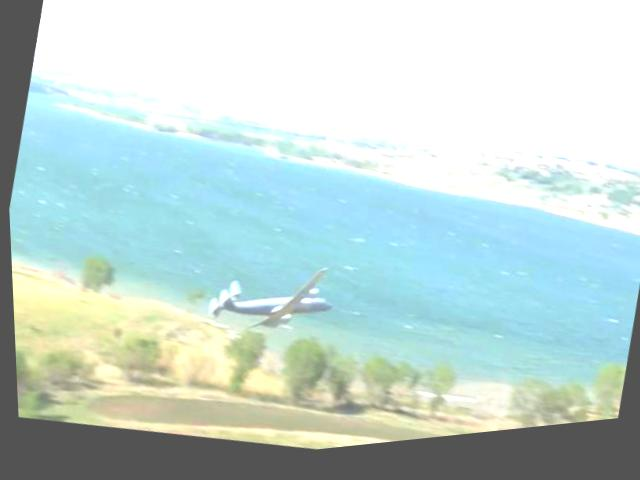iha: (196, 248, 339, 358)
